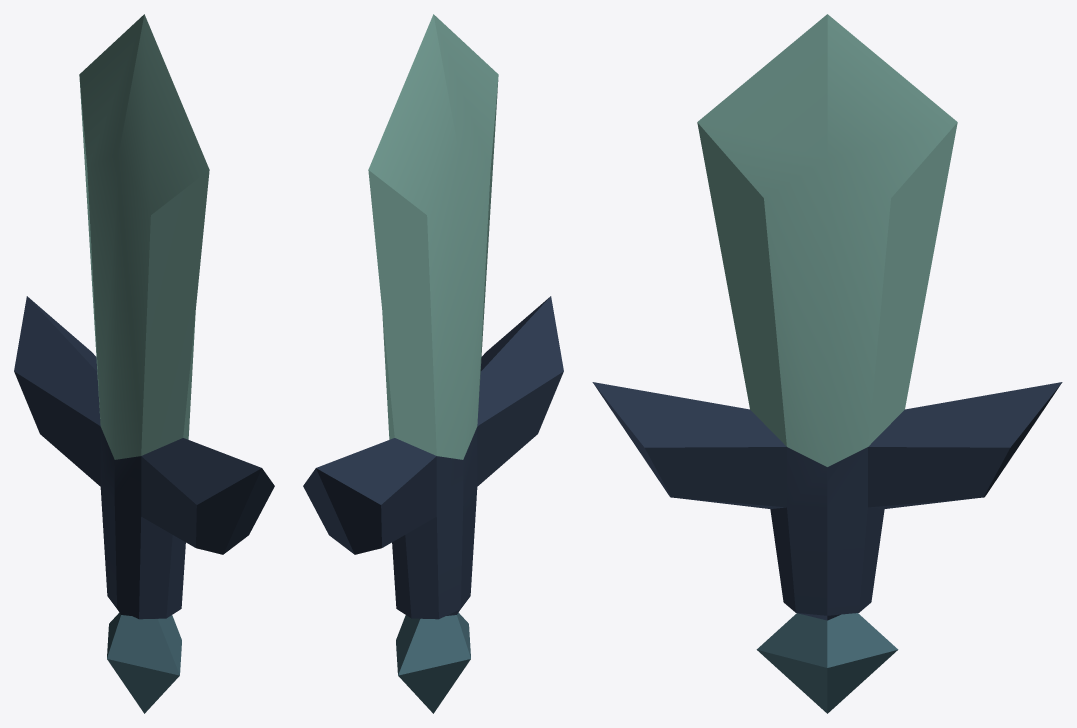
The model's file is Sword.fbx.
The picture shows the model from 3 angles, left to right: view 1: azimuth 30°, elevation 25°; view 2: azimuth 150°, elevation 25°; view 3: azimuth 270°, elevation 25°; orthographic projection.
Parts seen in each view (by area): view 1: Sword; view 2: Sword; view 3: Sword.
Part boxes in pixels (x1,y1,x2,y2): Sword: [14, 14, 274, 713]; Sword: [303, 14, 563, 713]; Sword: [592, 14, 1062, 713].
Size of the model in its own units: 17.72 by 152 by 92.42.
1 material, 1 textured.
